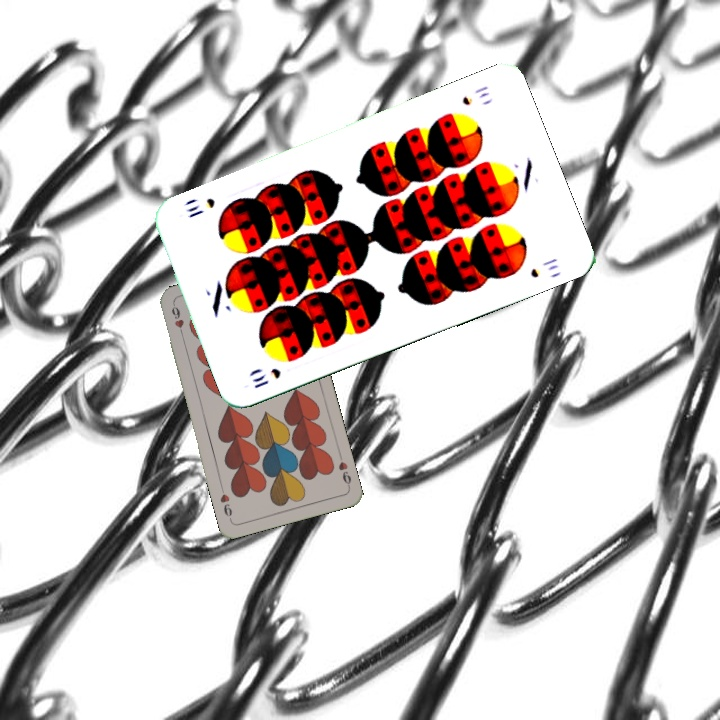H9: (334, 451, 354, 491), (167, 300, 186, 341)
S10: (248, 364, 284, 391), (458, 81, 492, 108)
